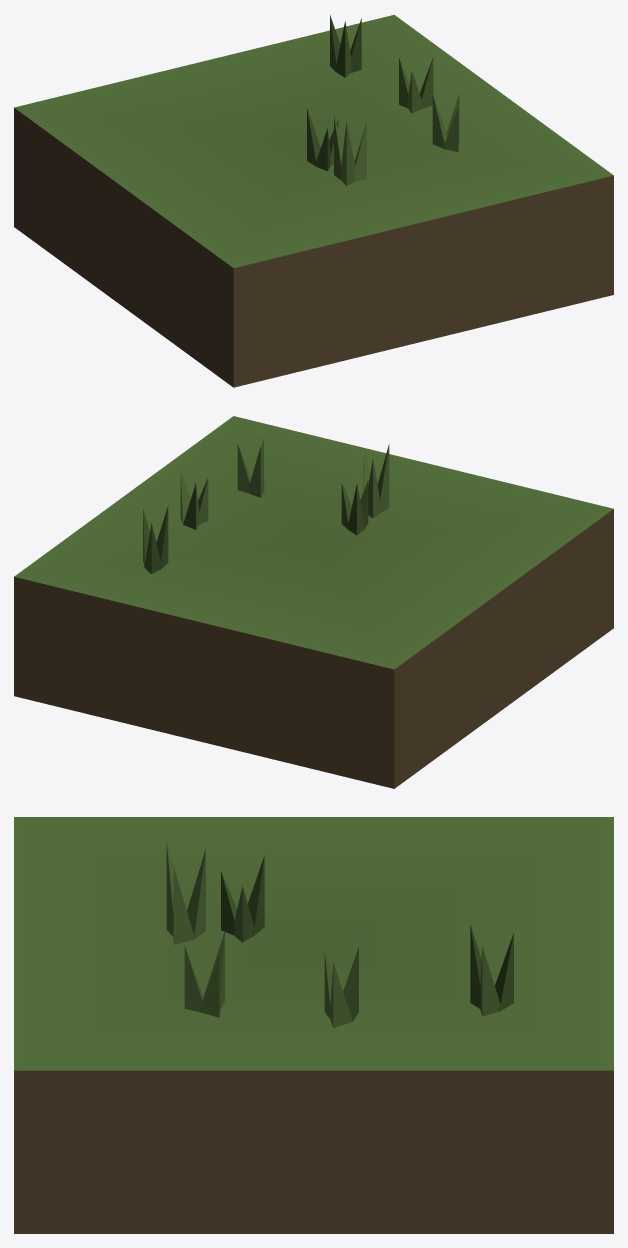
File: tile_grass_2.glb
The picture shows the model from 3 angles, top to bottom: view 1: azimuth 30°, elevation 25°; view 2: azimuth 150°, elevation 25°; view 3: azimuth 270°, elevation 25°; orthographic projection. The views are drawn at different scales.
Visible parts, largest first — view 1: tile_grass_2; view 2: tile_grass_2; view 3: tile_grass_2.
Boxes of the visible parts, box(x1,y1,x2,y2) form: tile_grass_2: box(14, 14, 613, 387); tile_grass_2: box(14, 416, 613, 788); tile_grass_2: box(14, 817, 613, 1233).
Size of the model in its own units: 1 by 0.4644 by 1.
